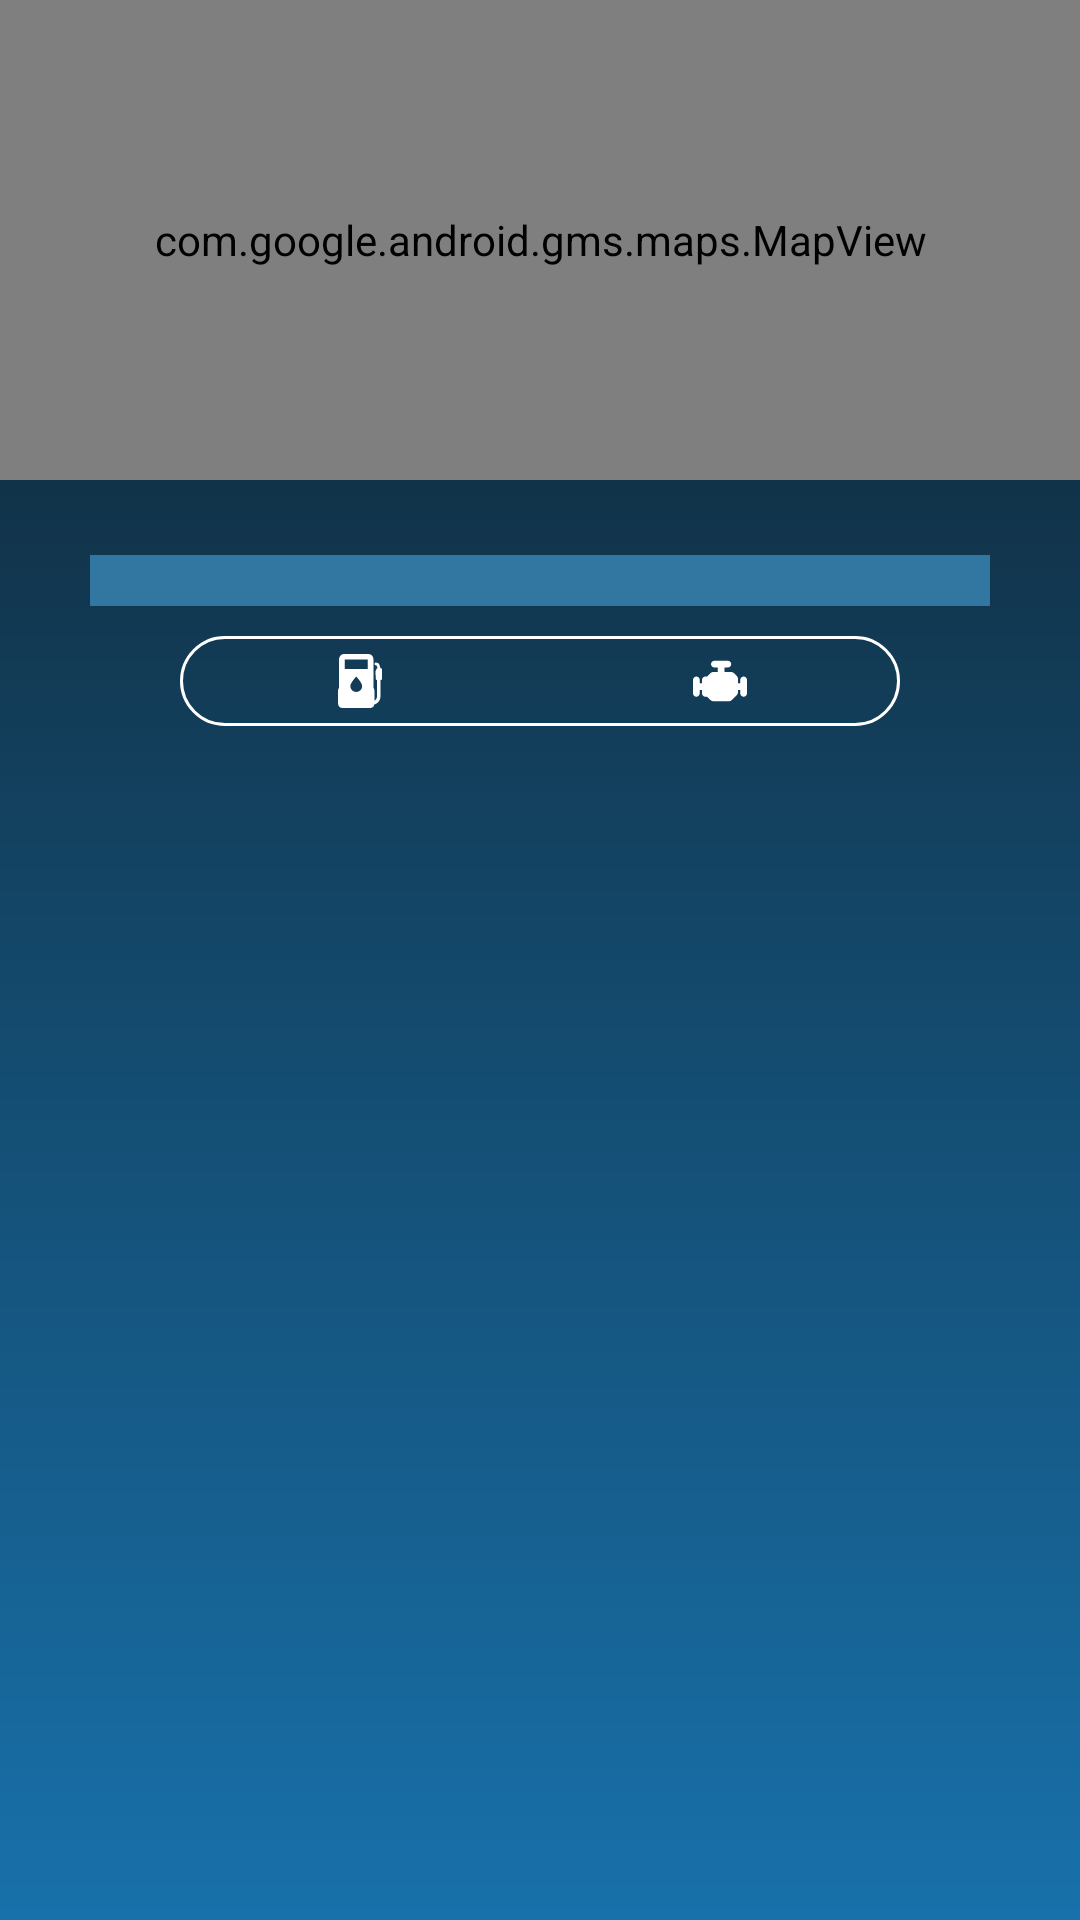

Icons on this 1080 × 1920 Android screen, each with the point to tap as point (x, y):
engine: point (720, 681)
fuel: point (360, 681)
